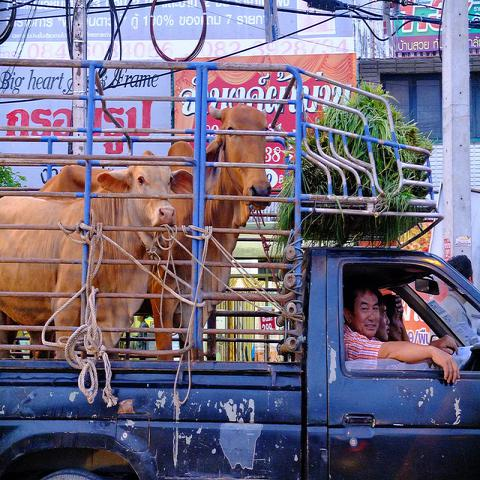truck: (0, 59, 480, 472)
